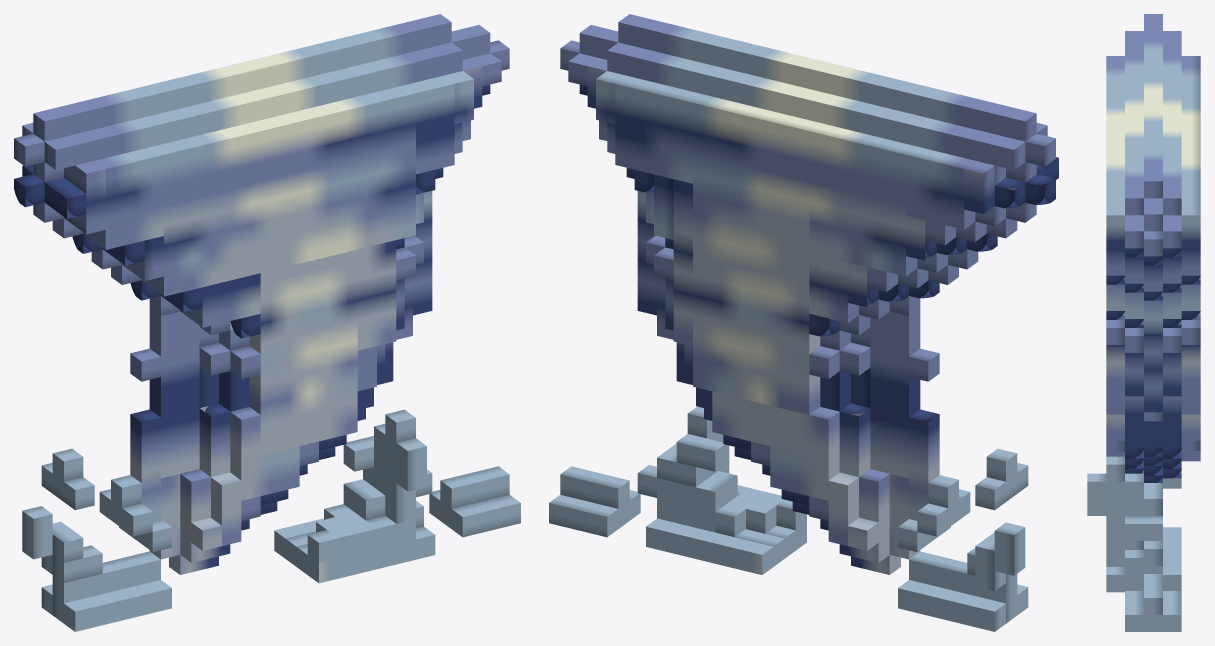
The model's file is Tornado Disaster.obj.
3 views of the same model, side by side, from view 1: azimuth 30°, elevation 25°; view 2: azimuth 150°, elevation 25°; view 3: azimuth 270°, elevation 25° (orthographic). The views are drawn at different scales.
Parts seen in each view (by area): view 1: Model; view 2: Model; view 3: Model.
Boxes of the visible parts, x1,y1,x2,y2 form: Model: [14, 14, 520, 631]; Model: [549, 14, 1058, 631]; Model: [1087, 14, 1200, 631].
Bounding box in the file's own units: 25 × 25 × 6.
1 material, 1 textured.
